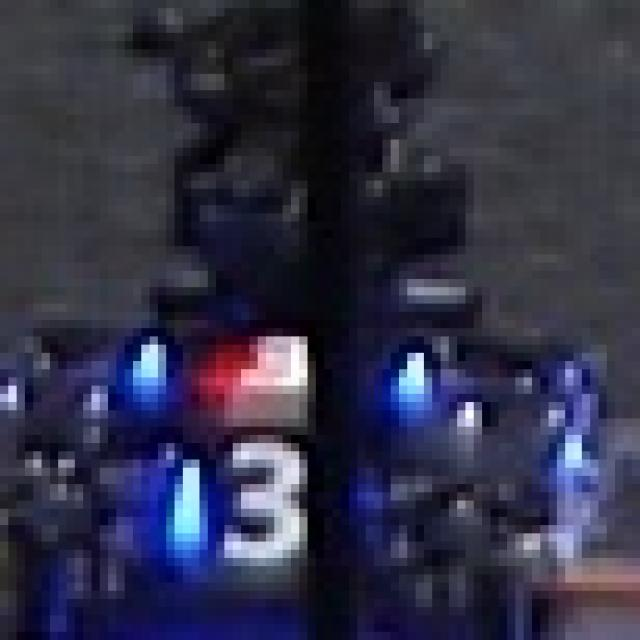B3: (125, 427, 332, 590)
